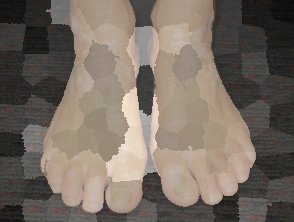vitiligo: (62, 2, 150, 171), (149, 12, 229, 100), (144, 121, 210, 192)
